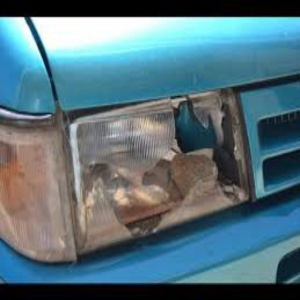head_lights: (1, 91, 249, 251)
